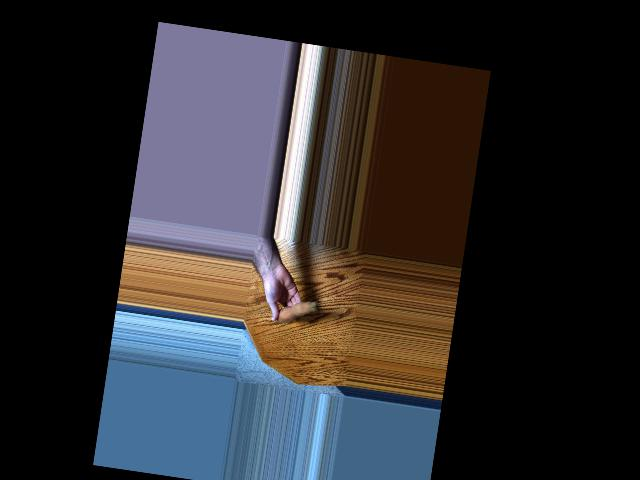sweet_potato: (272, 293, 318, 327)
